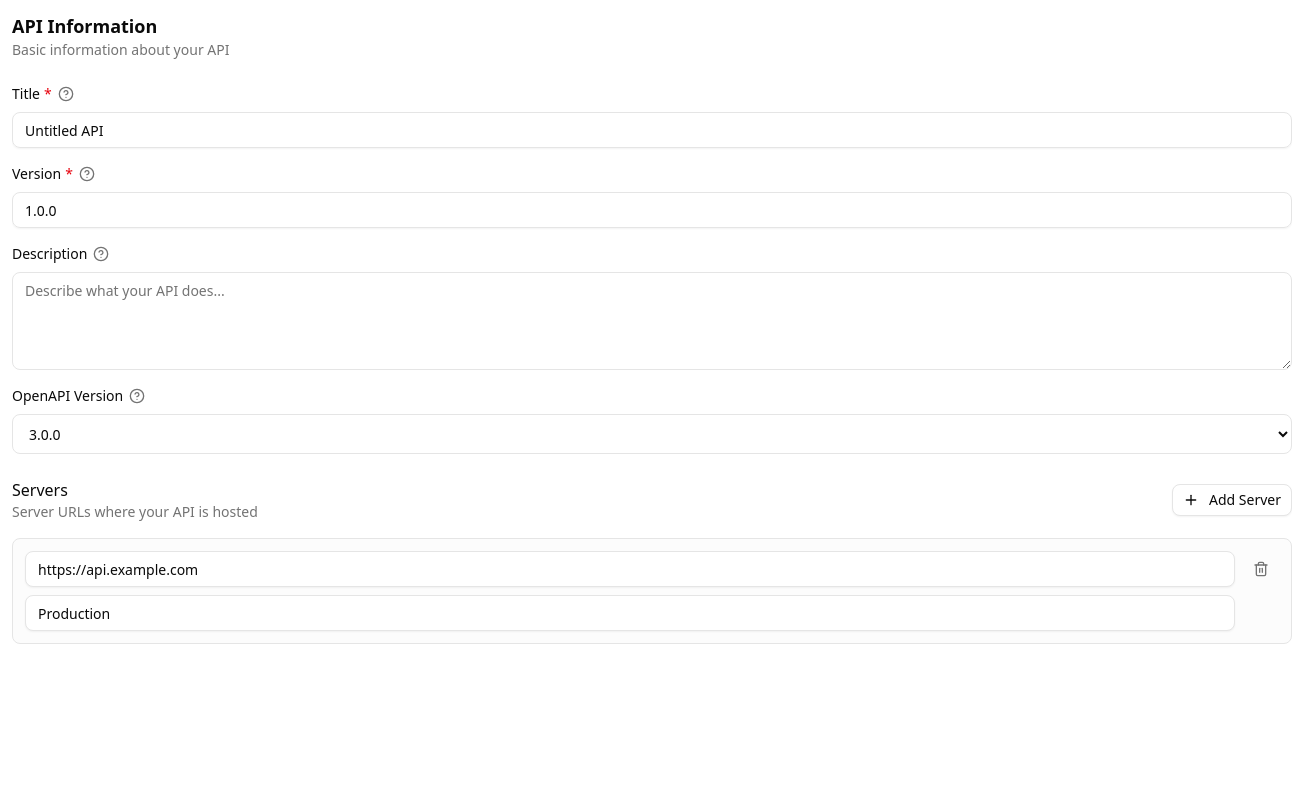
ApiInfoTab › Servers Section › should add new server when add button clicked
What coordinates should you click on to do the following:
click the button "Add Server"
I would click on:
 (1232, 500)
Its box is [1172,484,1292,516].
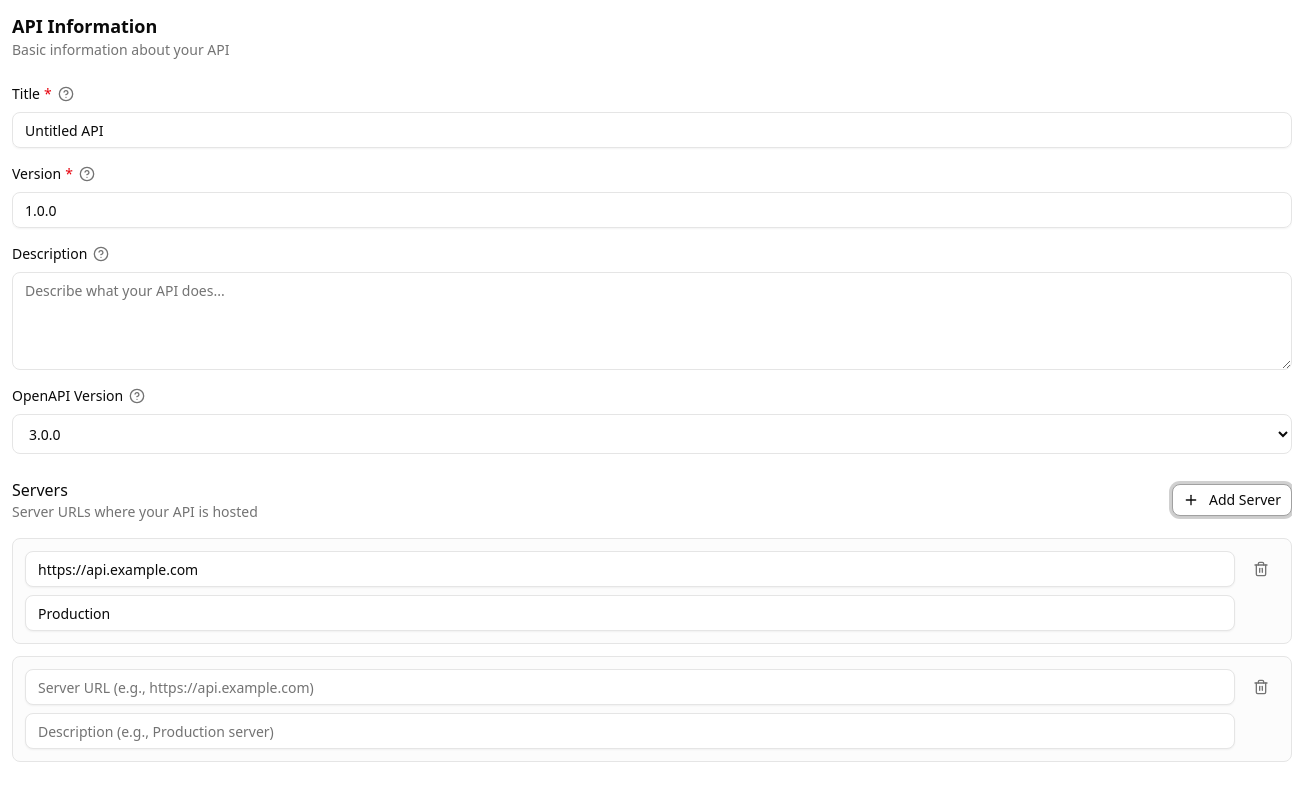
Check: the number of fields with placeholder "Server URL (e.g., https://api.example.com)" is 2, box [25,551,1235,587]; [25,669,1235,705]
